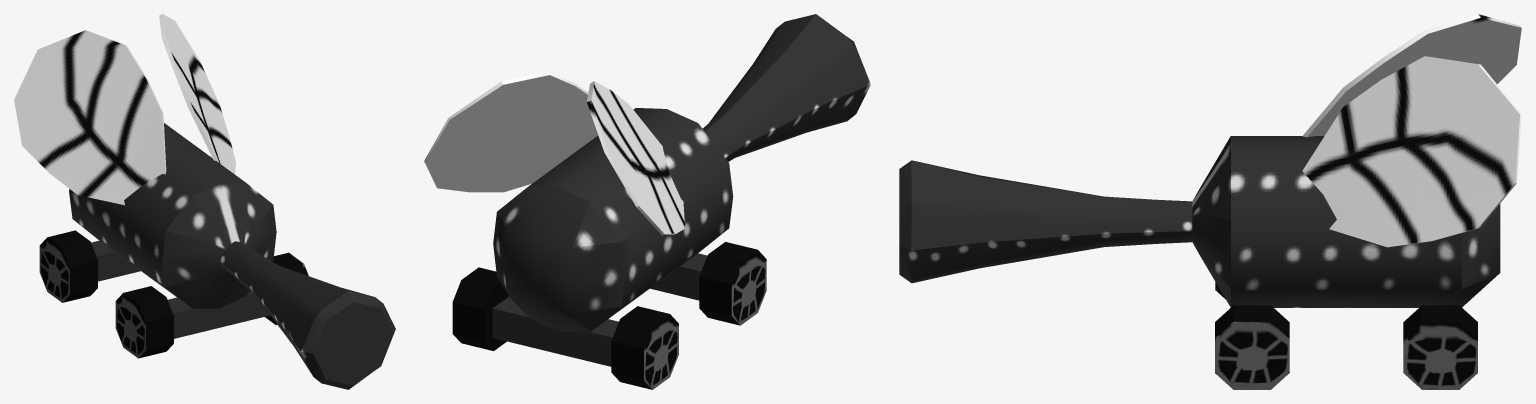
File: Enemy10.fbx
The picture shows the model from 3 angles, left to right: view 1: azimuth 30°, elevation 25°; view 2: azimuth 150°, elevation 25°; view 3: azimuth 270°, elevation 25°; orthographic projection. The views are drawn at different scales.
Parts seen in each view (by area): view 1: pCube7; view 2: pCube7; view 3: pCube7.
Part boxes in pixels (left/top/right/bottom): pCube7: left=14, top=14, right=395, bottom=389; pCube7: left=424, top=14, right=870, bottom=389; pCube7: left=899, top=14, right=1521, bottom=389.
Size of the model in its own units: 1.84 by 2.18 by 4.05.
Materials: 1 (1 with a texture image).
